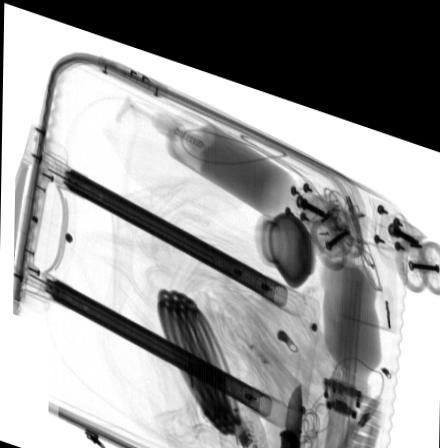Knife: (277, 365, 301, 448)
